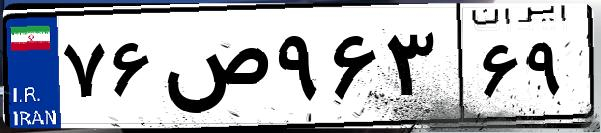3: (385, 28, 445, 110)
6: (330, 28, 385, 110), (475, 38, 525, 113), (110, 28, 158, 98)
7: (57, 26, 110, 100)
9: (270, 28, 330, 110), (525, 38, 570, 115)
ص: (158, 20, 270, 120)
